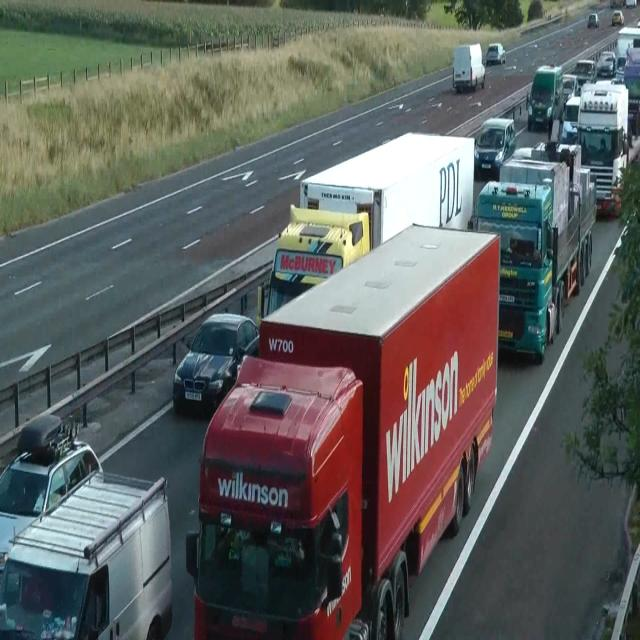bus: (0, 412, 104, 574), (172, 312, 260, 415), (473, 116, 515, 178), (562, 73, 580, 106), (596, 51, 617, 77), (486, 43, 506, 65), (626, 38, 640, 64), (615, 56, 626, 82), (587, 12, 599, 28), (612, 10, 624, 26), (444, 1, 456, 13), (625, 0, 637, 7)
car: (185, 220, 501, 638), (185, 354, 364, 638), (469, 140, 597, 364)
jeep: (0, 468, 172, 638)
minibus: (257, 130, 475, 324), (256, 203, 370, 325), (576, 81, 630, 217), (526, 62, 564, 132), (452, 42, 485, 92), (624, 43, 640, 145), (614, 25, 640, 66)
